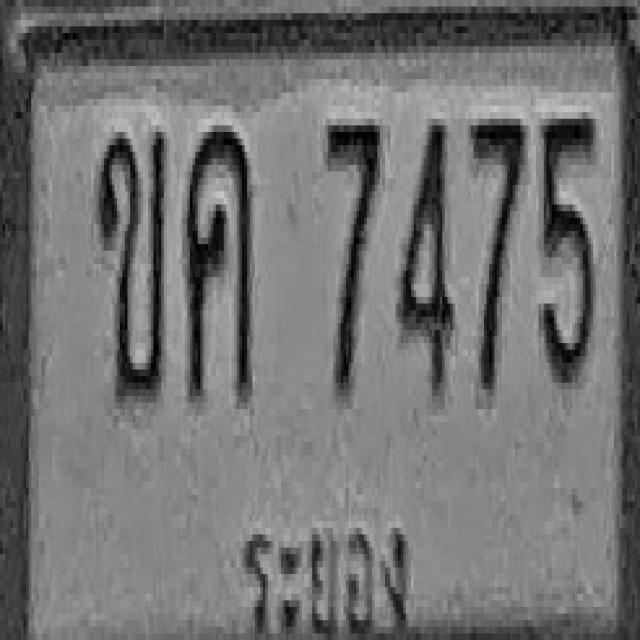11KhorKhai: (96, 125, 166, 402)
13KhorKhwai: (185, 122, 252, 399)
4: (398, 116, 453, 399)
5: (540, 112, 594, 383)
7: (470, 112, 524, 396), (325, 119, 380, 396)
Rayong: (228, 481, 414, 640)
